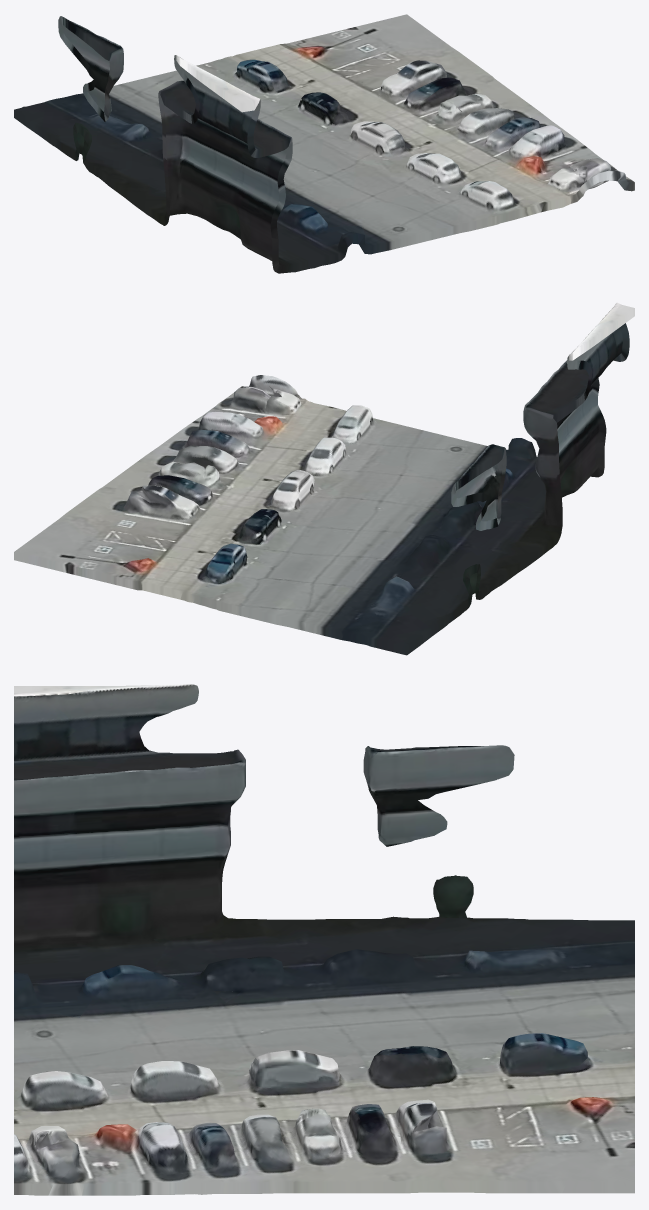
Rendered from z20-167772-405201-h0-yup-uvflip-v3-world.glb.
The picture shows the model from 3 angles, top to bottom: view 1: azimuth 30°, elevation 25°; view 2: azimuth 150°, elevation 25°; view 3: azimuth 270°, elevation 25°; orthographic projection. The views are drawn at different scales.
Size of the model in its own units: 30.16 by 13.48 by 30.32.
Materials: 1 (1 with a texture image).
